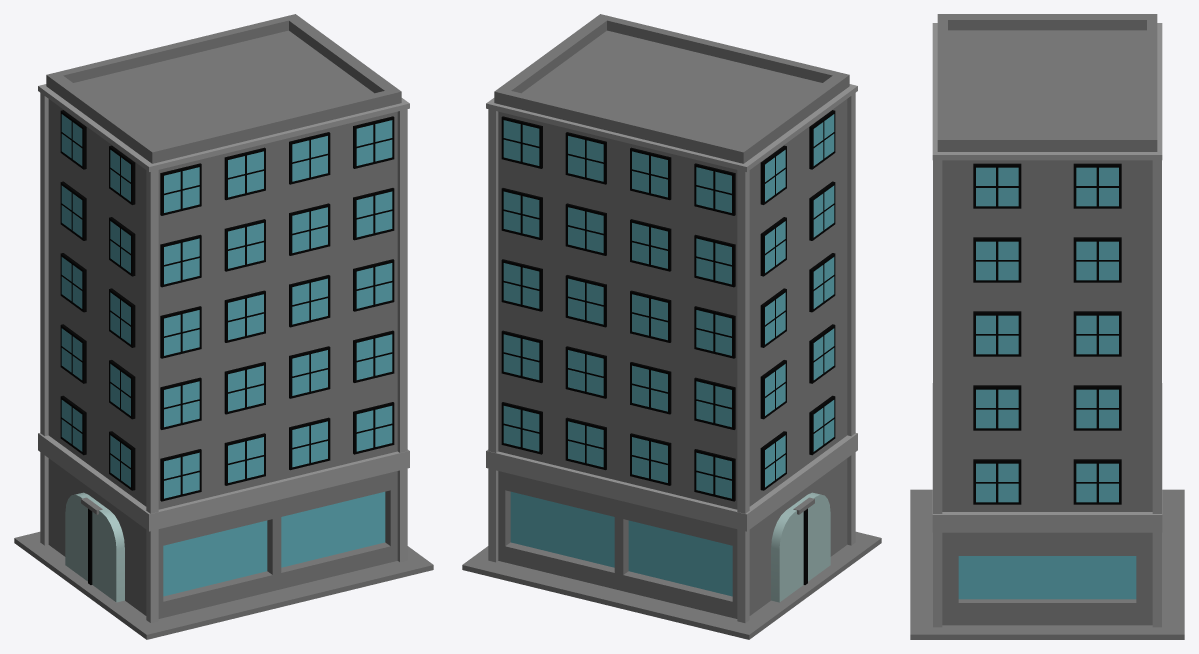
Rendered from House5.fbx.
The picture shows the model from 3 angles, left to right: view 1: azimuth 30°, elevation 25°; view 2: azimuth 150°, elevation 25°; view 3: azimuth 270°, elevation 25°; orthographic projection. The views are drawn at different scales.
Parts seen in each view (by area): view 1: House.005; view 2: House.005; view 3: House.005.
Part boxes in pixels (x1=…): House.005: x1=14, y1=14, x2=433, y2=639; House.005: x1=462, y1=14, x2=881, y2=639; House.005: x1=910, y1=14, x2=1184, y2=639.
Bounding box in the file's own units: 1430 × 2254 × 1144.
